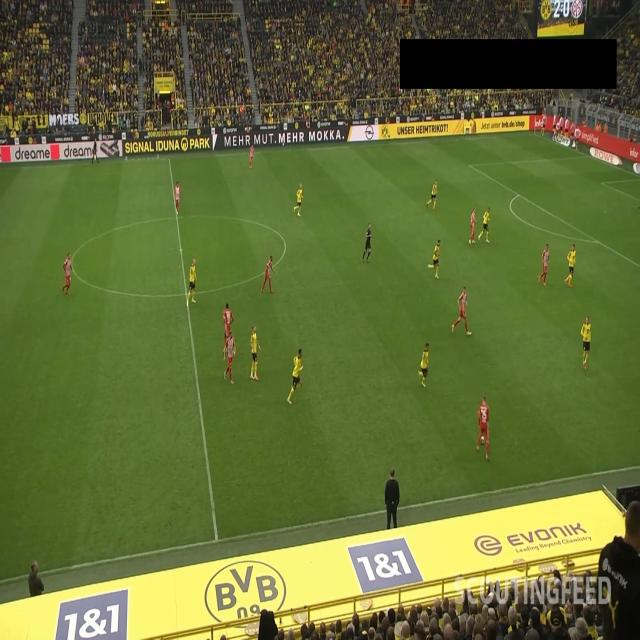ball: (480, 436, 486, 446)
